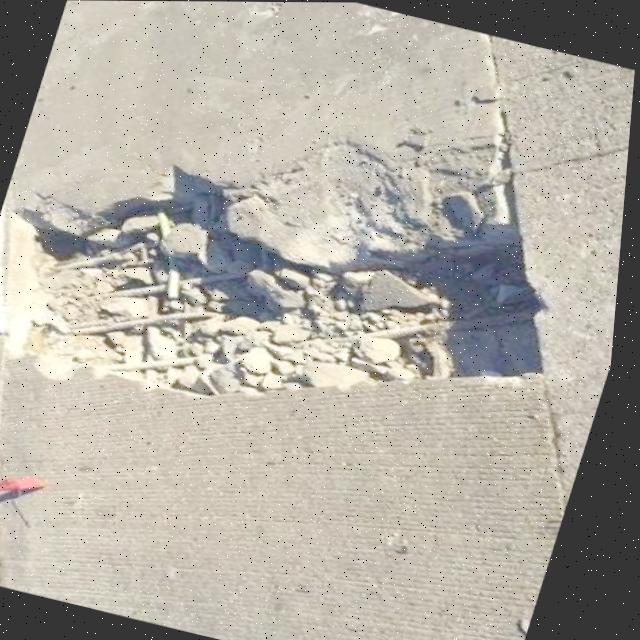pothole: (0, 104, 605, 476)
